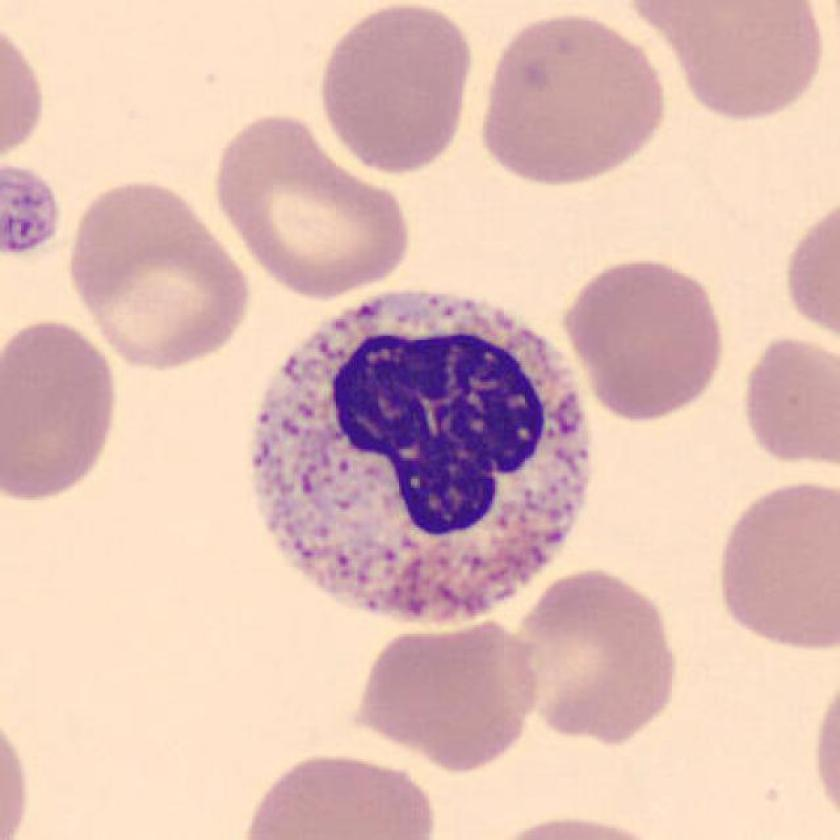neutrophil: (254, 292, 589, 626)
